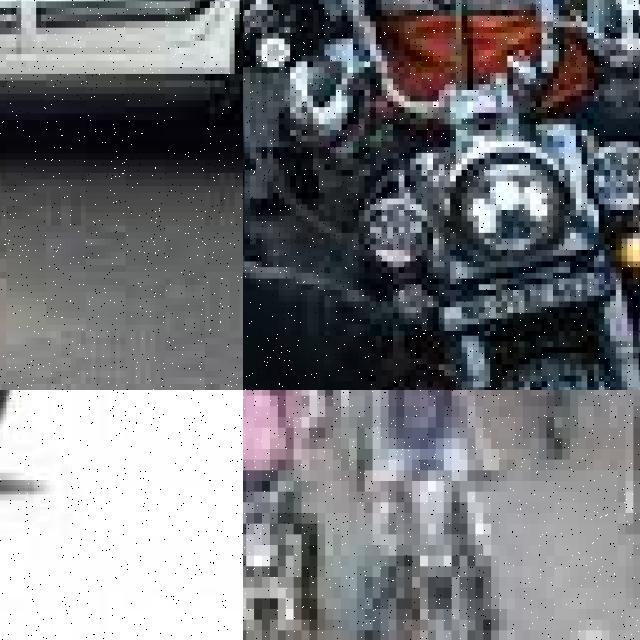bike: (243, 0, 640, 390), (372, 438, 514, 640), (243, 481, 317, 640), (491, 390, 609, 459)
car: (0, 0, 243, 186), (0, 390, 95, 559)
